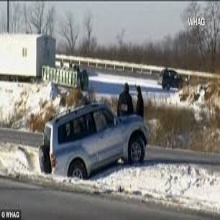no damage: (38, 102, 150, 181)
